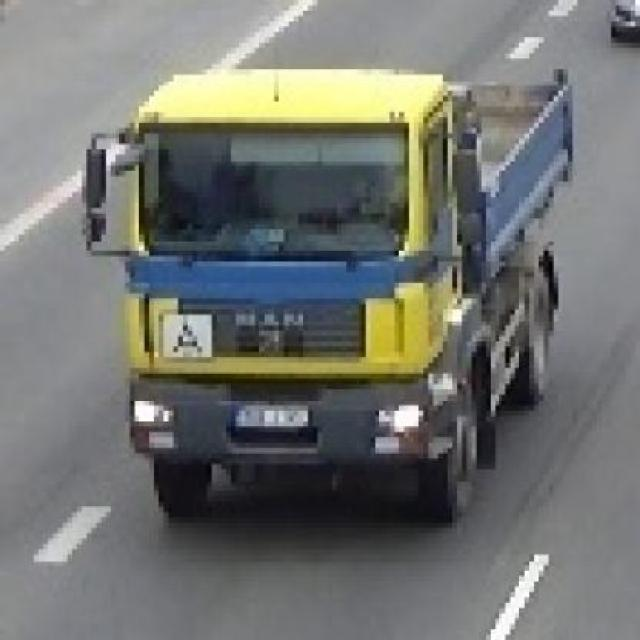truck: (87, 60, 589, 524)
